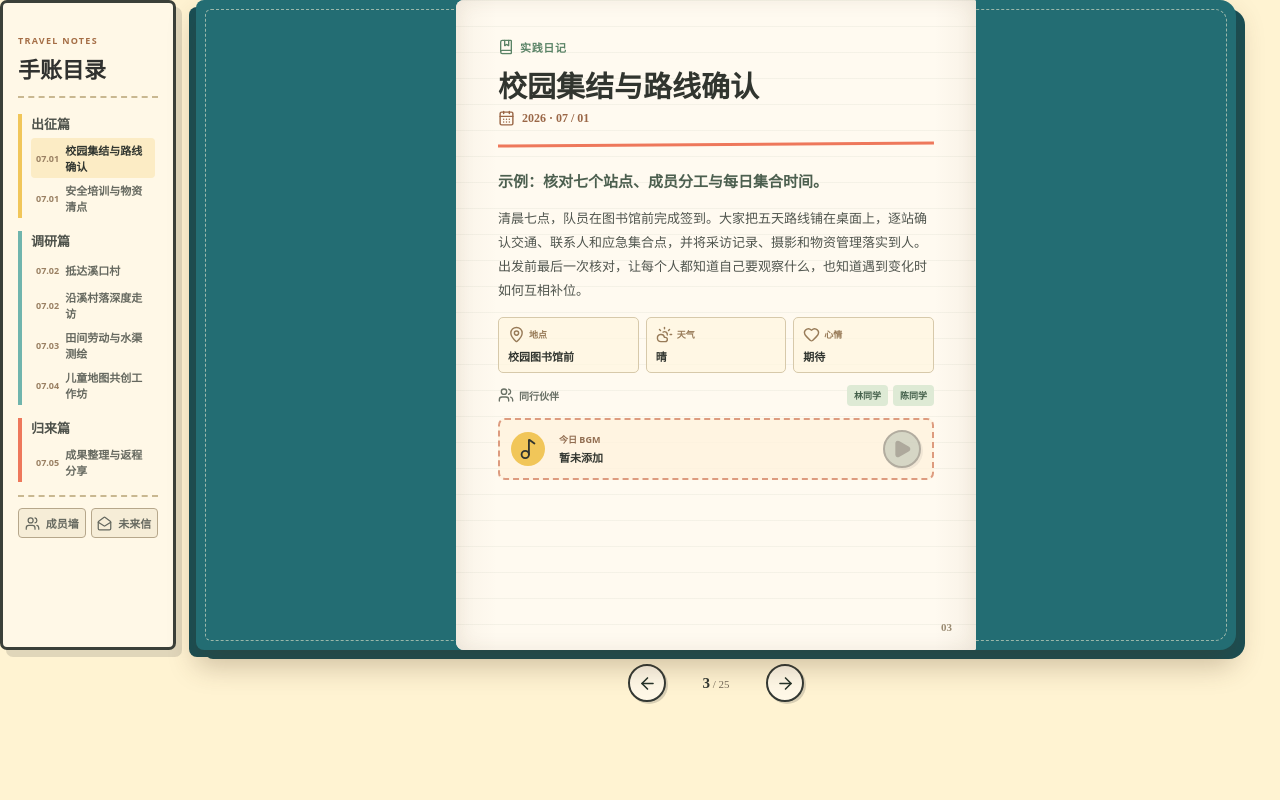
uses simple pagination when reduced motion is enabled
This screenshot has width=1280, height=800.
expect the element "校园集结与路线确认" is shown: met, box [456, 0, 976, 650]
Click the button named "下一页" at (785, 683), box [766, 664, 804, 702]
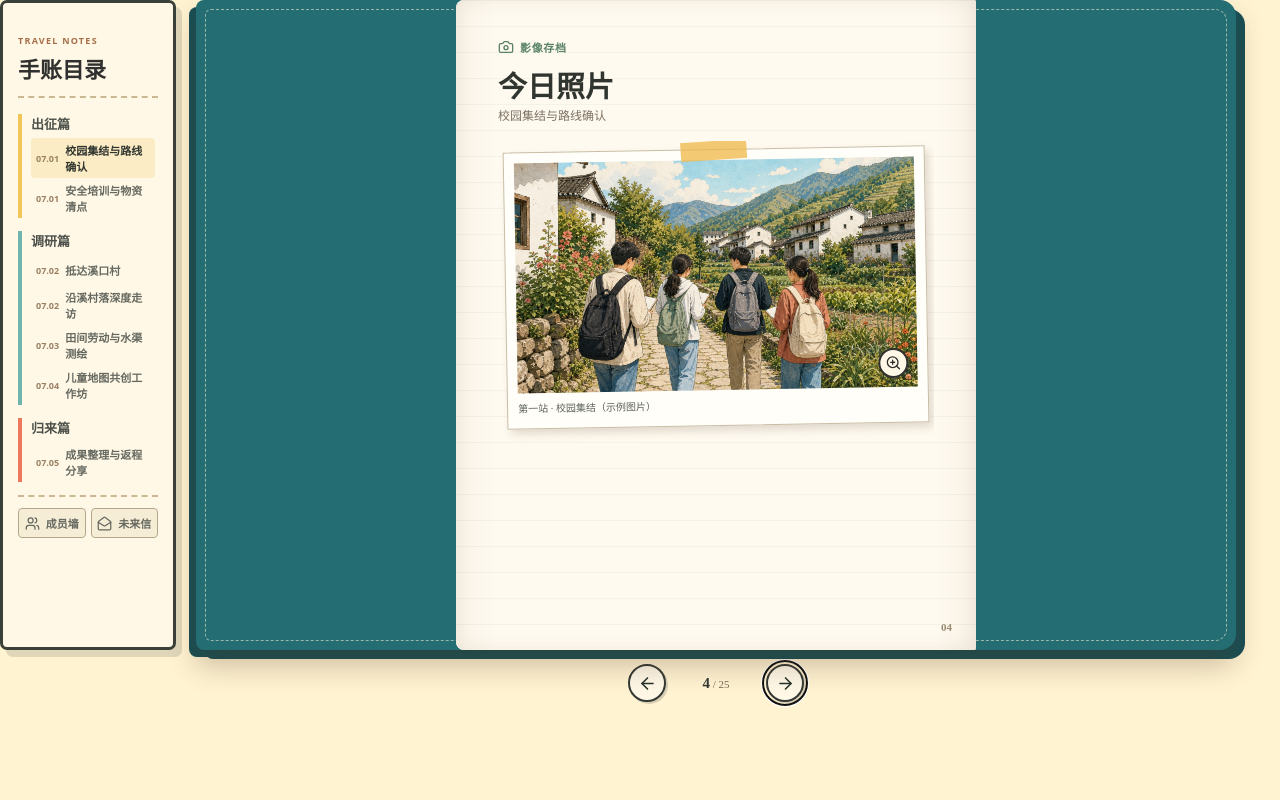
expect the heading "今日照片" is shown: met, box [498, 66, 614, 105]
